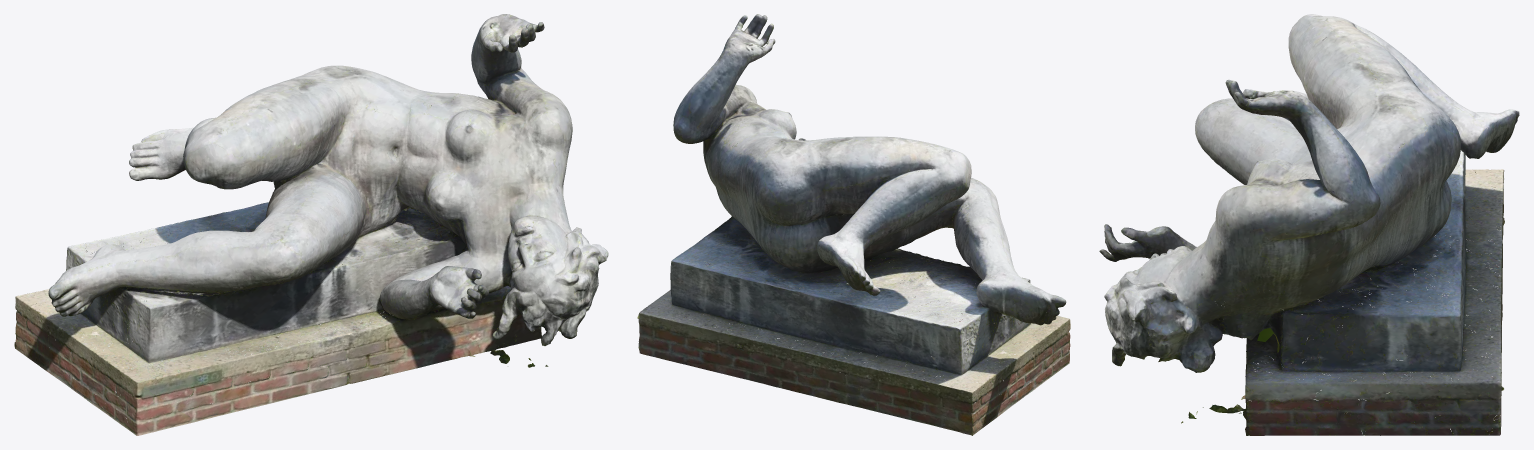
The model's file is preview.glb.
3 renders of one model, left to right at view 1: azimuth 30°, elevation 25°; view 2: azimuth 150°, elevation 25°; view 3: azimuth 270°, elevation 25°, orthographic. The views are drawn at different scales.
Parts seen in each view (by area): view 1: Object_2, Object_21; view 2: Object_2, Object_21; view 3: Object_2, Object_21.
Boxes of the visible parts, left/top/right/bottom form: Object_2: left=14, top=14, right=608, bottom=435; Object_21: left=16, top=14, right=578, bottom=423; Object_2: left=637, top=14, right=1070, bottom=435; Object_21: left=648, top=18, right=1063, bottom=417; Object_2: left=1099, top=14, right=1519, bottom=435; Object_21: left=1100, top=27, right=1501, bottom=435.
Bounding box in the file's own units: 2.03 × 1.32 × 1.46.
2 materials, 2 textured.
